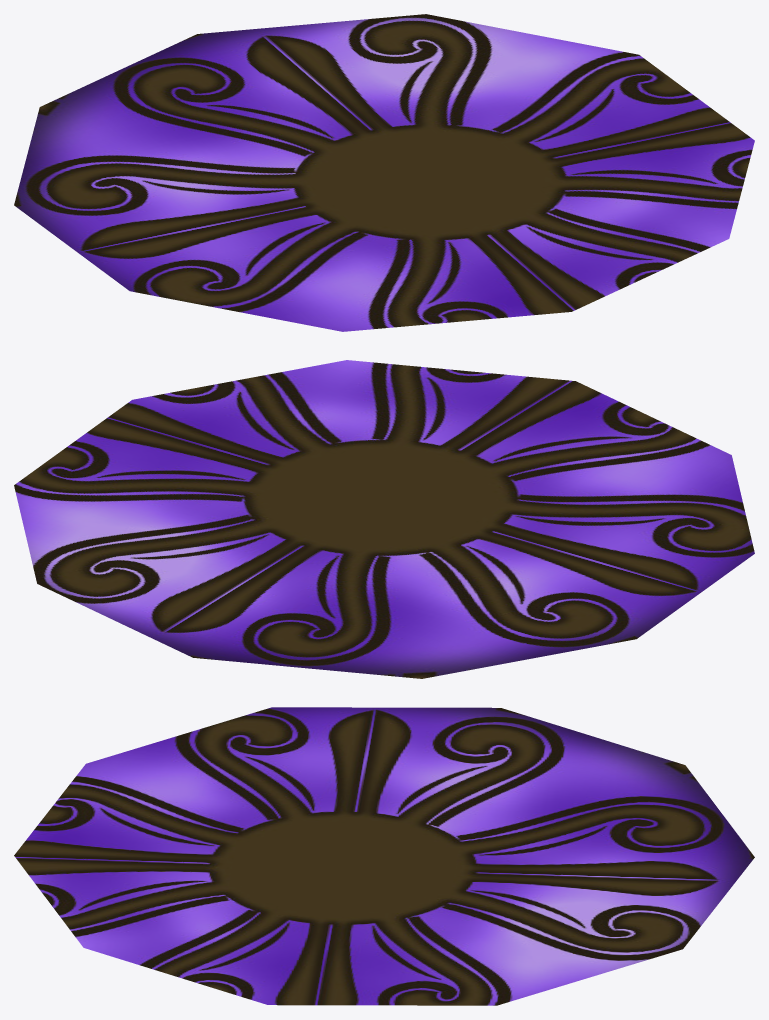
File: MiddleGlowingCircle.FBX
The picture shows the model from 3 angles, top to bottom: view 1: azimuth 30°, elevation 25°; view 2: azimuth 150°, elevation 25°; view 3: azimuth 270°, elevation 25°; orthographic projection. The views are drawn at different scales.
Visible parts, largest first — view 1: MiddleGlowingcircle; view 2: MiddleGlowingcircle; view 3: MiddleGlowingcircle.
Boxes of the visible parts, <box> form: MiddleGlowingcircle: <box>14,14,754,331</box>; MiddleGlowingcircle: <box>14,360,754,678</box>; MiddleGlowingcircle: <box>14,707,754,1005</box>.
Size of the model in its own units: 88.35 by 1.89e-05 by 92.73.
